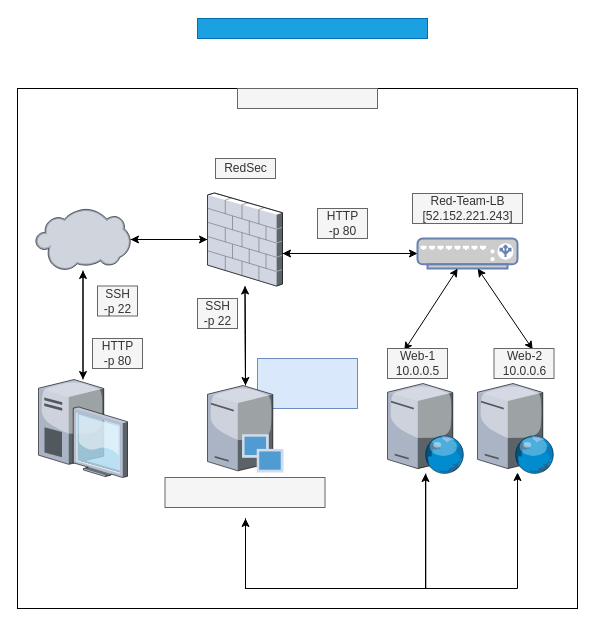
Some shapes in this 595 by 626 pixel diagram are drawn without their labels. Here are the shapes that lost their labels. From the top down, the box of each, then its label:
(196, 18, 428, 38): Red Team Resource Group
(236, 88, 378, 108): Red Net [10.0.0.0/16]
(256, 358, 358, 408): Is hosting an Ansible Docker container
(164, 476, 325, 508): Jump-Box-Provisioner [13.90.242.161] [10.0.0.4]
